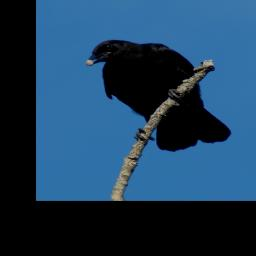Crow: (81, 32, 235, 158)
